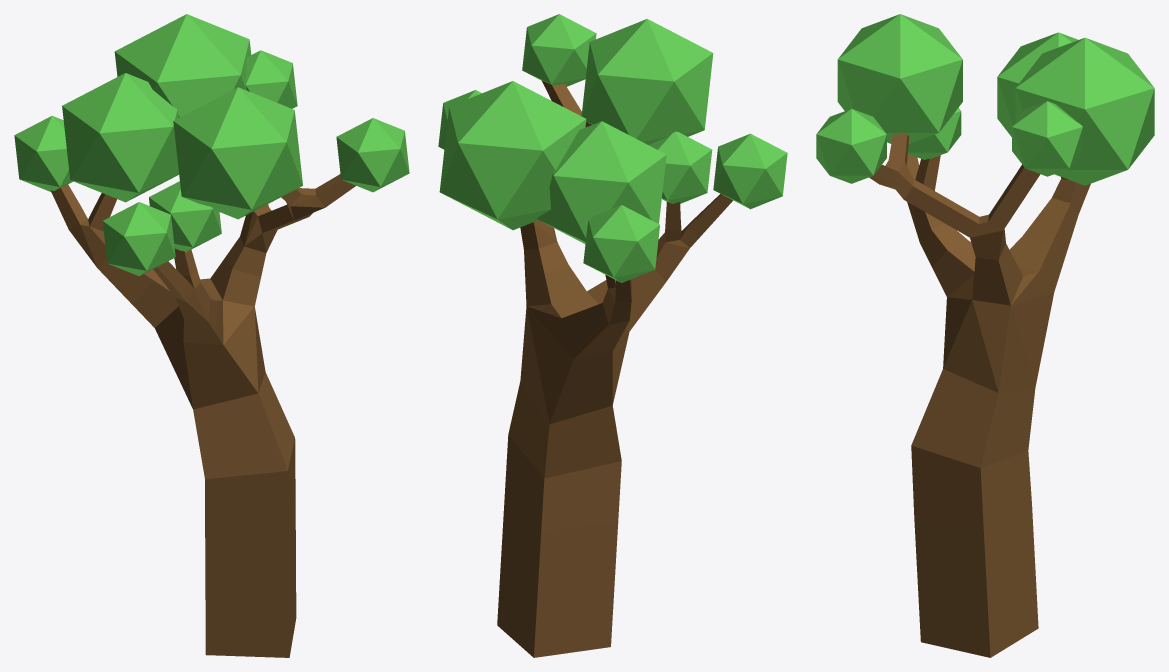
Rendered from tree1.glb.
3 renders of one model, left to right at view 1: azimuth 30°, elevation 25°; view 2: azimuth 150°, elevation 25°; view 3: azimuth 270°, elevation 25°, orthographic.
Visible parts, largest first — view 1: Icosphere, Cube; view 2: Icosphere, Cube; view 3: Cube, Icosphere.
Part boxes in pixels (x1,y1,x2,y2): Icosphere: (14, 14, 409, 276); Cube: (51, 174, 355, 657); Icosphere: (438, 14, 787, 282); Cube: (497, 80, 732, 657); Cube: (869, 134, 1090, 657); Icosphere: (816, 14, 1154, 185).
Size of the model in its own units: 2.82 by 5.82 by 2.99.
